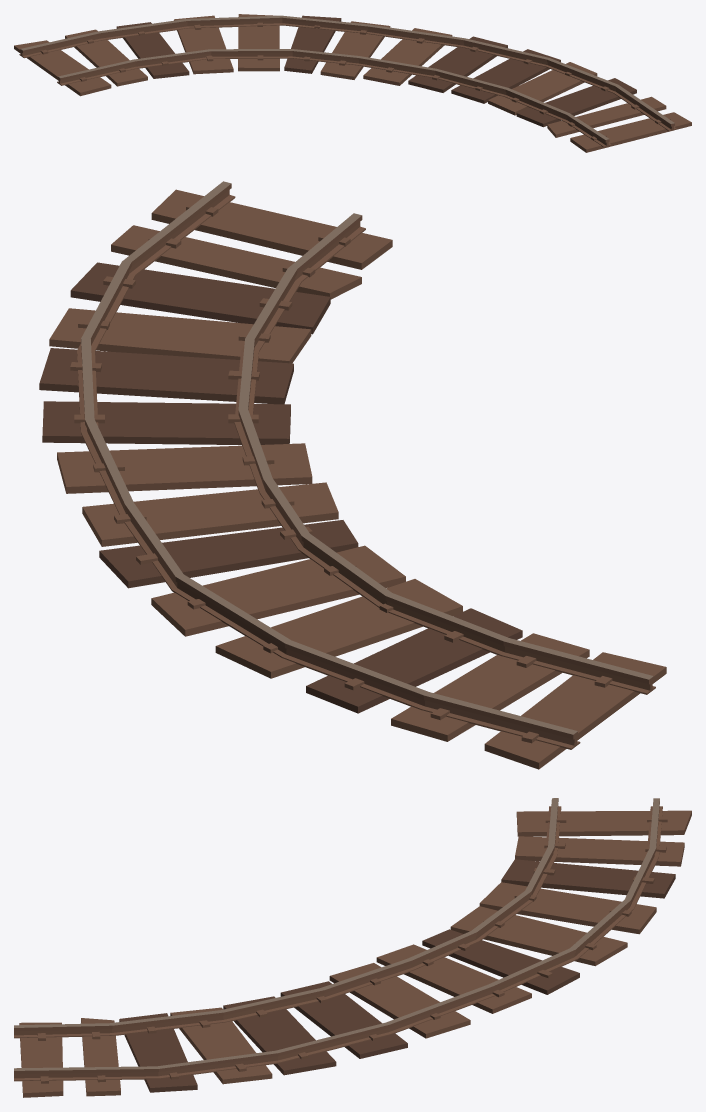
Rendered from Mines Car Track Curve.glb.
3 renders of one model, top to bottom at view 1: azimuth 30°, elevation 25°; view 2: azimuth 150°, elevation 25°; view 3: azimuth 270°, elevation 25°, orthographic. The views are drawn at different scales.
Parts seen in each view (by area): view 1: Mines Car Track Curve; view 2: Mines Car Track Curve; view 3: Mines Car Track Curve.
Part boxes in pixels (box(x1,y1,x2,y2)): Mines Car Track Curve: box(14, 14, 691, 152); Mines Car Track Curve: box(39, 181, 666, 769); Mines Car Track Curve: box(14, 798, 691, 1097).
Size of what is drawn, in the model's own units: 4.17 by 0.092 by 4.17.
Materials: 1 (1 with a texture image).
